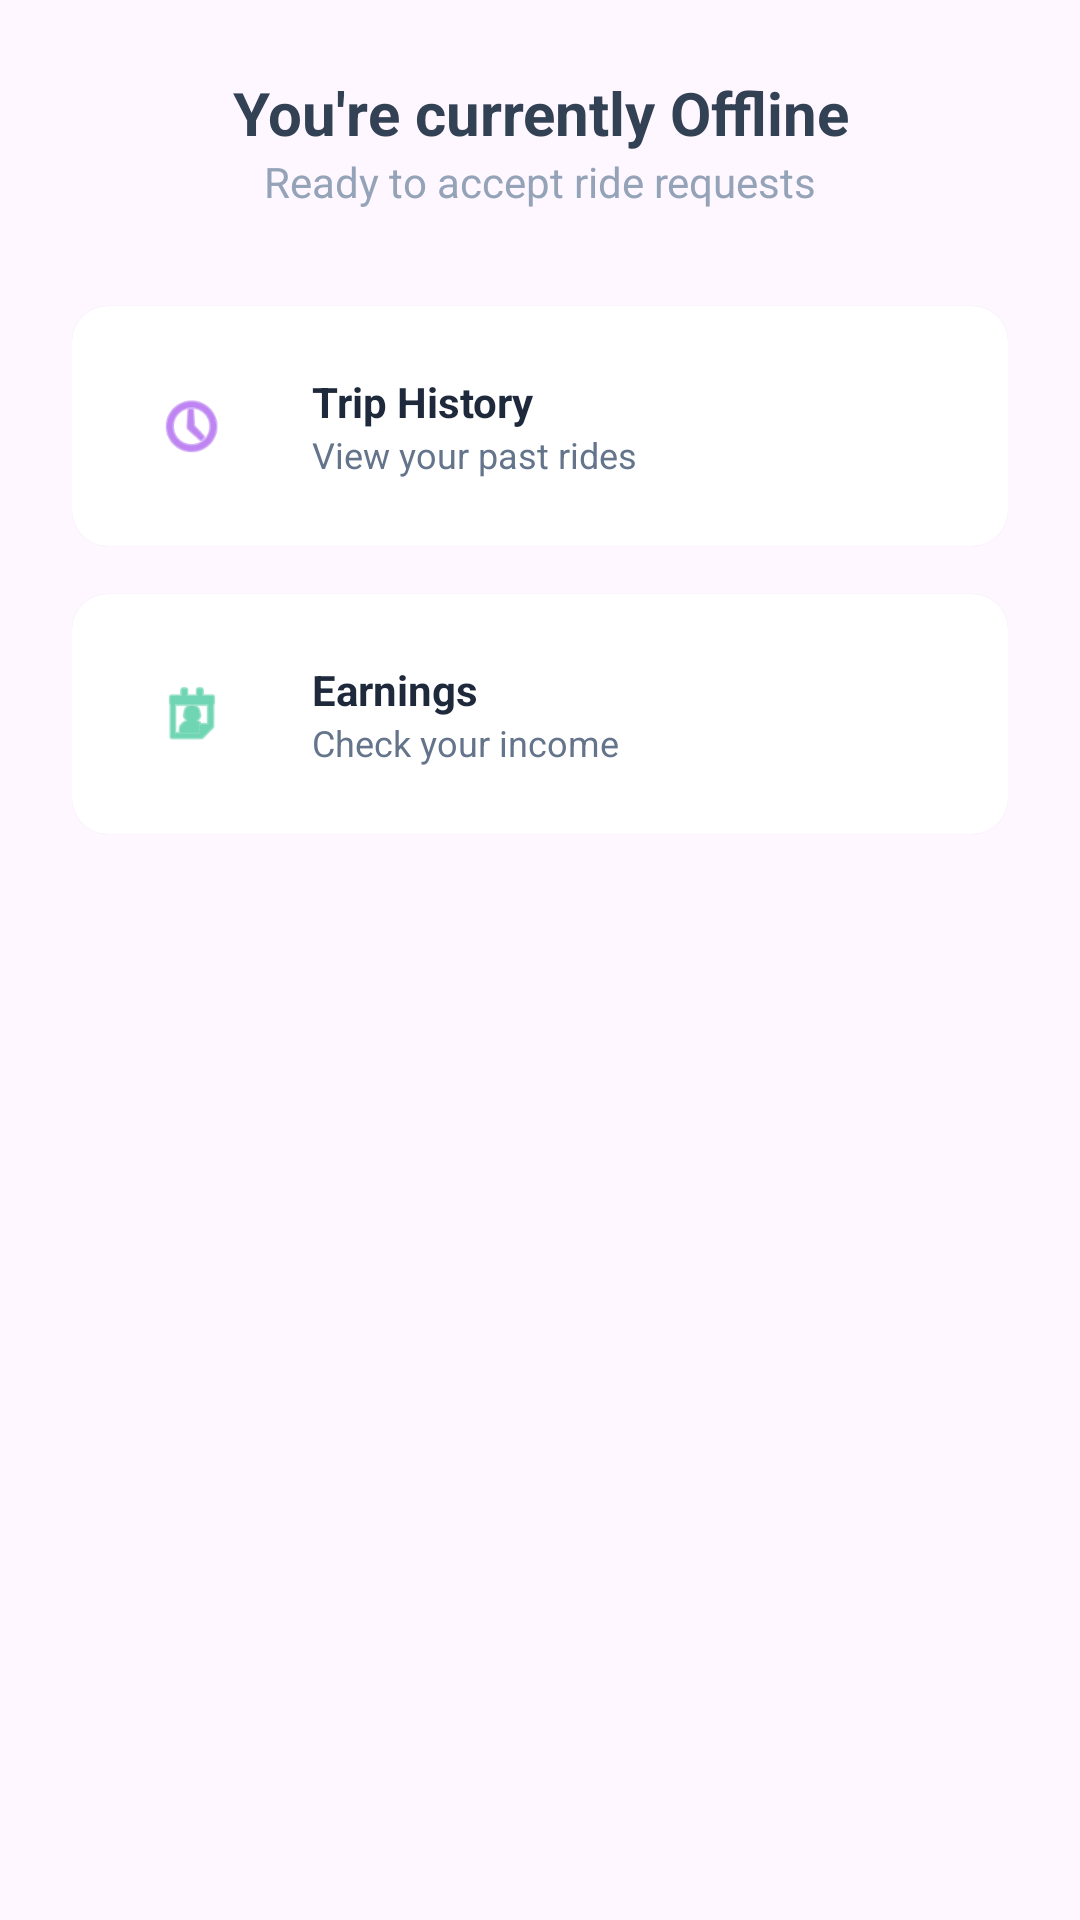

Where to tap for icons on this 1080x1920 app screen, as (x=x, y=y):
calendar: (x=192, y=713)
recent history: (x=192, y=426)
